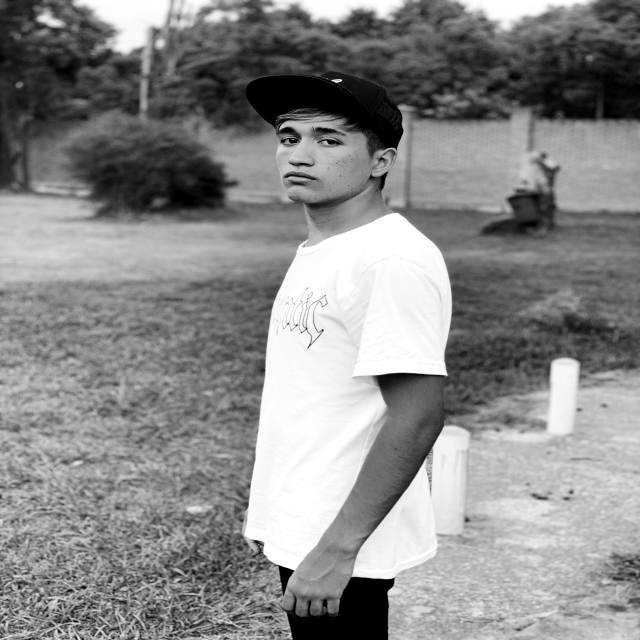no_hard_hat: (246, 71, 401, 127)
person: (244, 71, 451, 640)
